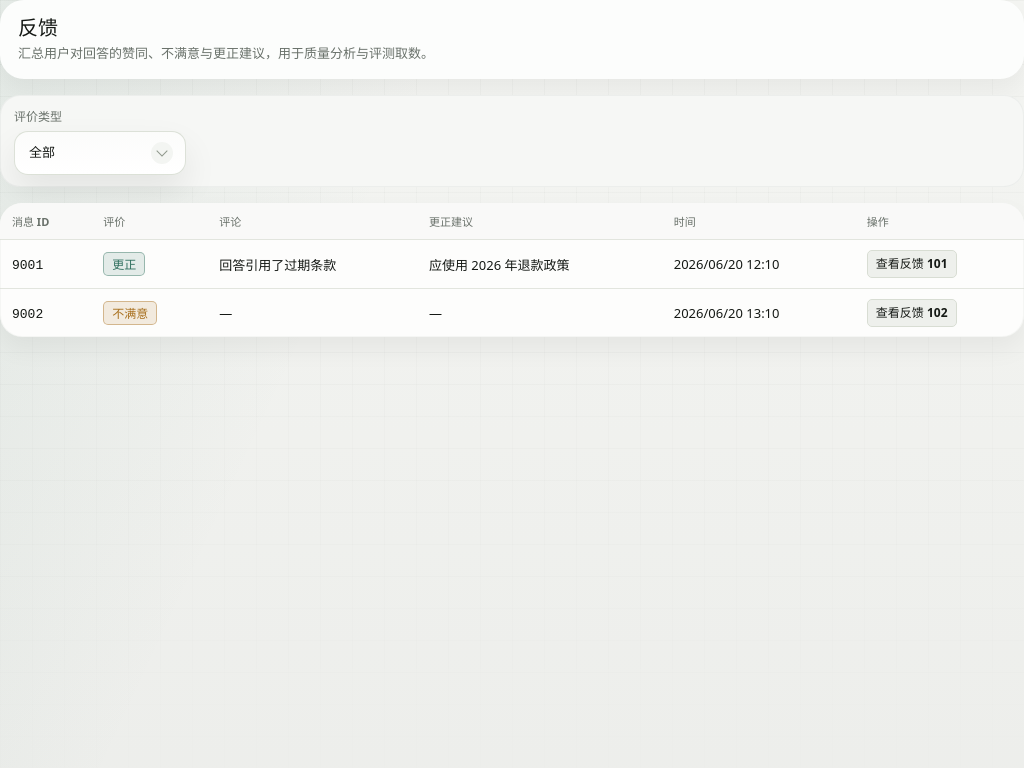
FeedbackConsolePage › shows unavailable trace state when feedback has no exchange id
Click the button "查看反馈 102": coordinates (912, 313) [867,299,956,327]
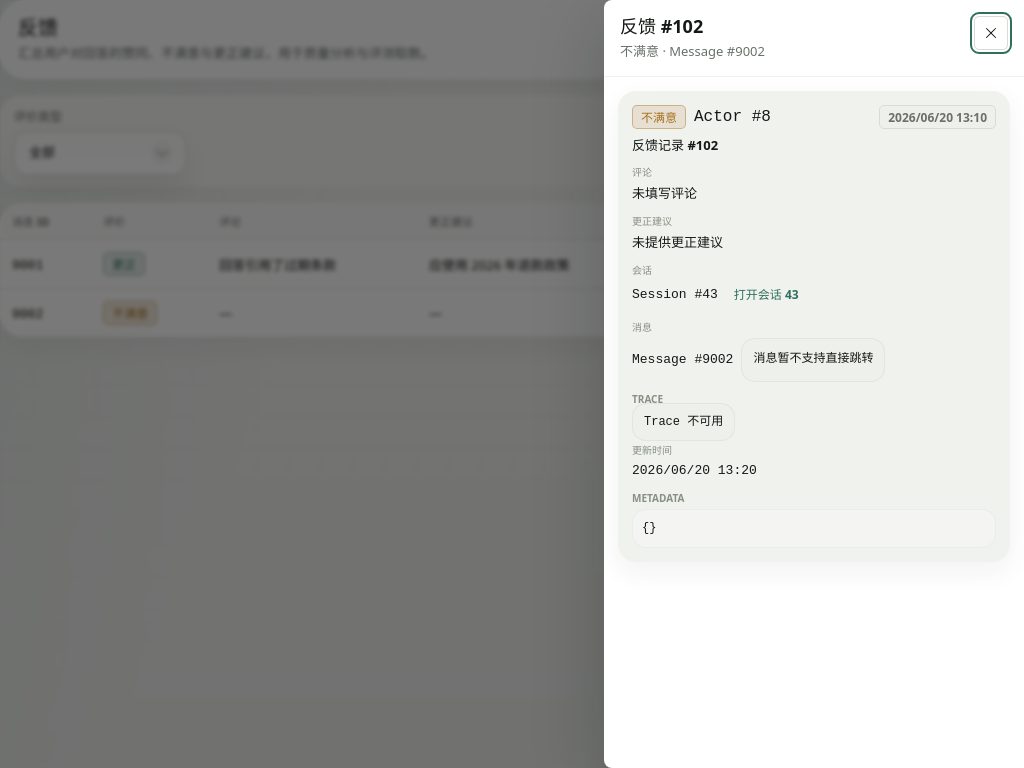
Check: the text "Trace 不可用" is shown, box [632,403,735,441]
Check: the text "未填写评论" is shown, box [632,184,697,202]
Check: the text "未提供更正建议" is shown, box [632,233,723,251]
